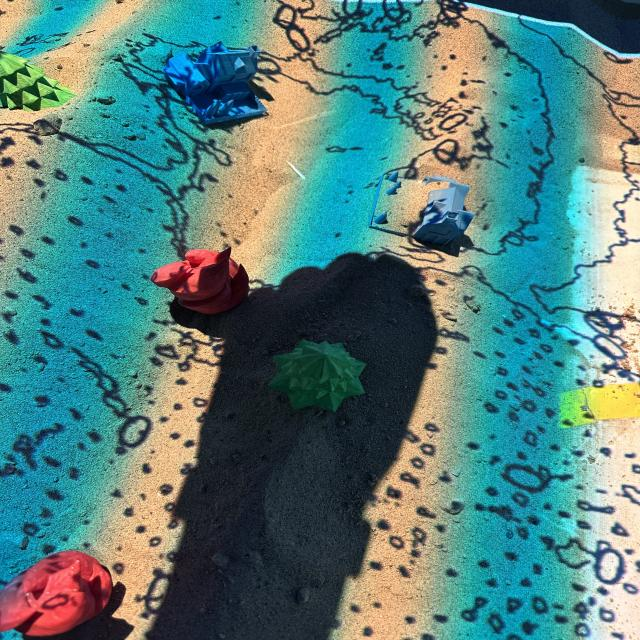fire: (0, 550, 113, 640), (150, 247, 249, 315)
house: (162, 40, 268, 125), (371, 172, 474, 248)
tree: (267, 338, 367, 413), (0, 51, 77, 110)
